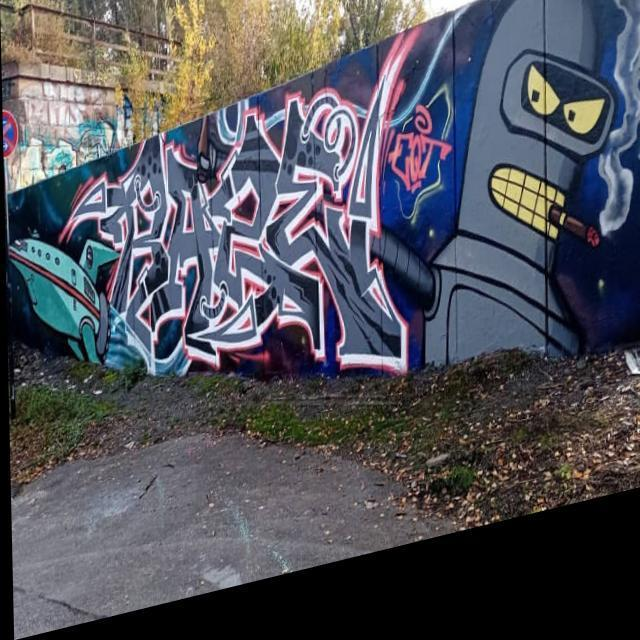-: (102, 51, 420, 380), (416, 0, 614, 389), (9, 205, 117, 388)
